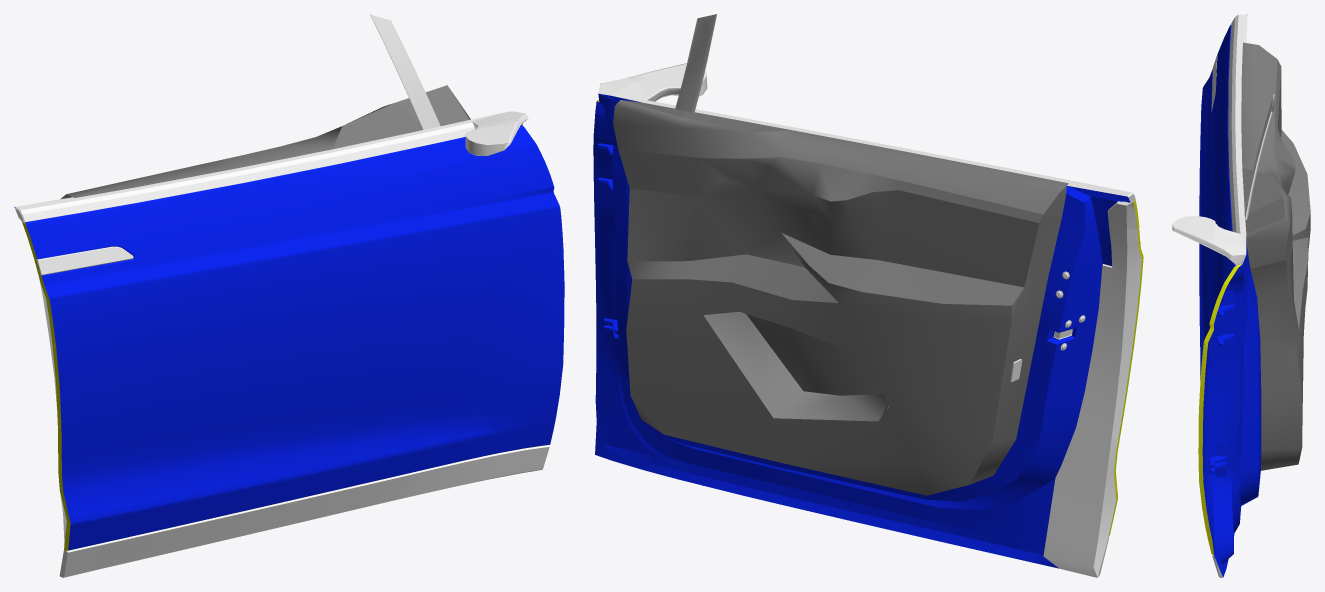
Rendered from Door_RF.obj.
3 views of the same model, side by side, from view 1: azimuth 30°, elevation 25°; view 2: azimuth 150°, elevation 25°; view 3: azimuth 270°, elevation 25° (orthographic). The views are drawn at different scales.
Visible parts, largest first — view 1: Door_RF; view 2: Door_RF; view 3: Door_RF.
Part boxes in pixels (box(x1,y1,x2,y2)): Door_RF: box(14, 14, 564, 577); Door_RF: box(593, 14, 1143, 577); Door_RF: box(1172, 14, 1310, 577).
Size of the model in its own units: 1.27 by 1.08 by 0.3224.
